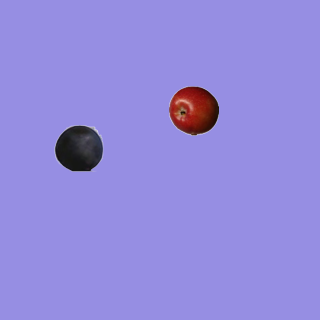Apple Braeburn: (168, 85, 218, 135)
Grape Blue: (53, 122, 103, 172)
